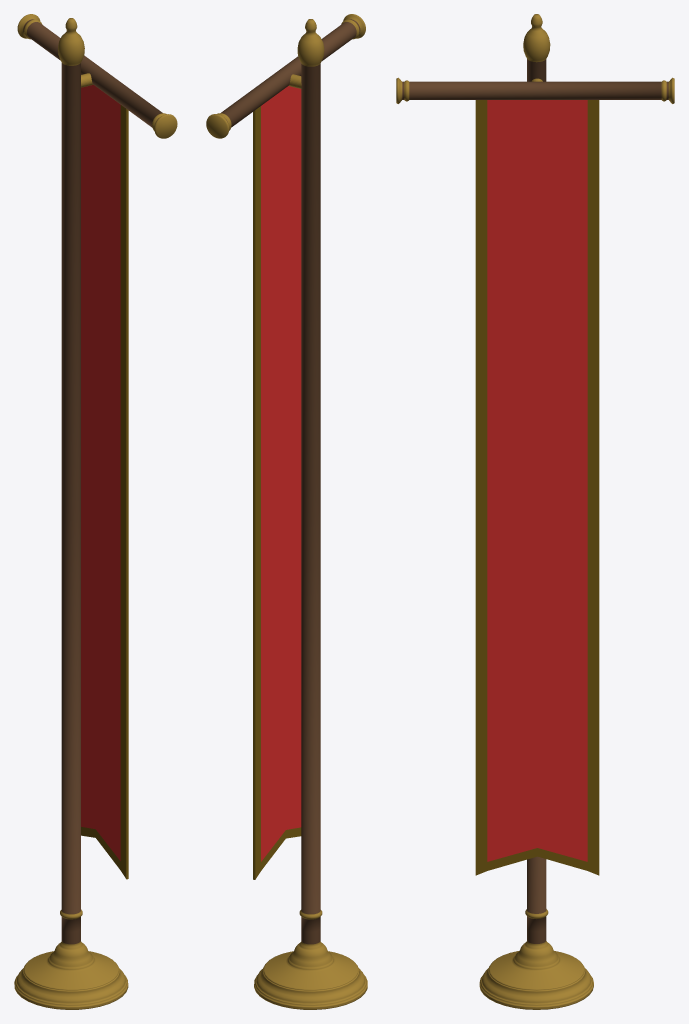
File: StandingBanner.fbx
3 renders of one model, left to right at view 1: azimuth 30°, elevation 25°; view 2: azimuth 150°, elevation 25°; view 3: azimuth 270°, elevation 25°, orthographic.
Parts seen in each view (by area): view 1: StandingBanner; view 2: StandingBanner; view 3: StandingBanner.
Part boxes in pixels (left/top/right/bottom): StandingBanner: left=14, top=14, right=177, bottom=1009; StandingBanner: left=206, top=14, right=367, bottom=1009; StandingBanner: left=396, top=14, right=674, bottom=1009.
Bounding box in the file's own units: 288 × 2690 × 700.
